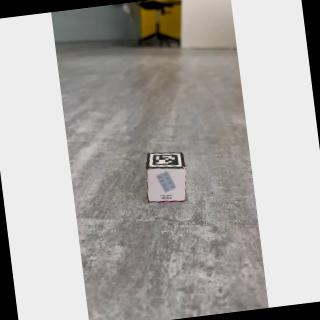Tablet: (142, 166, 195, 207)
